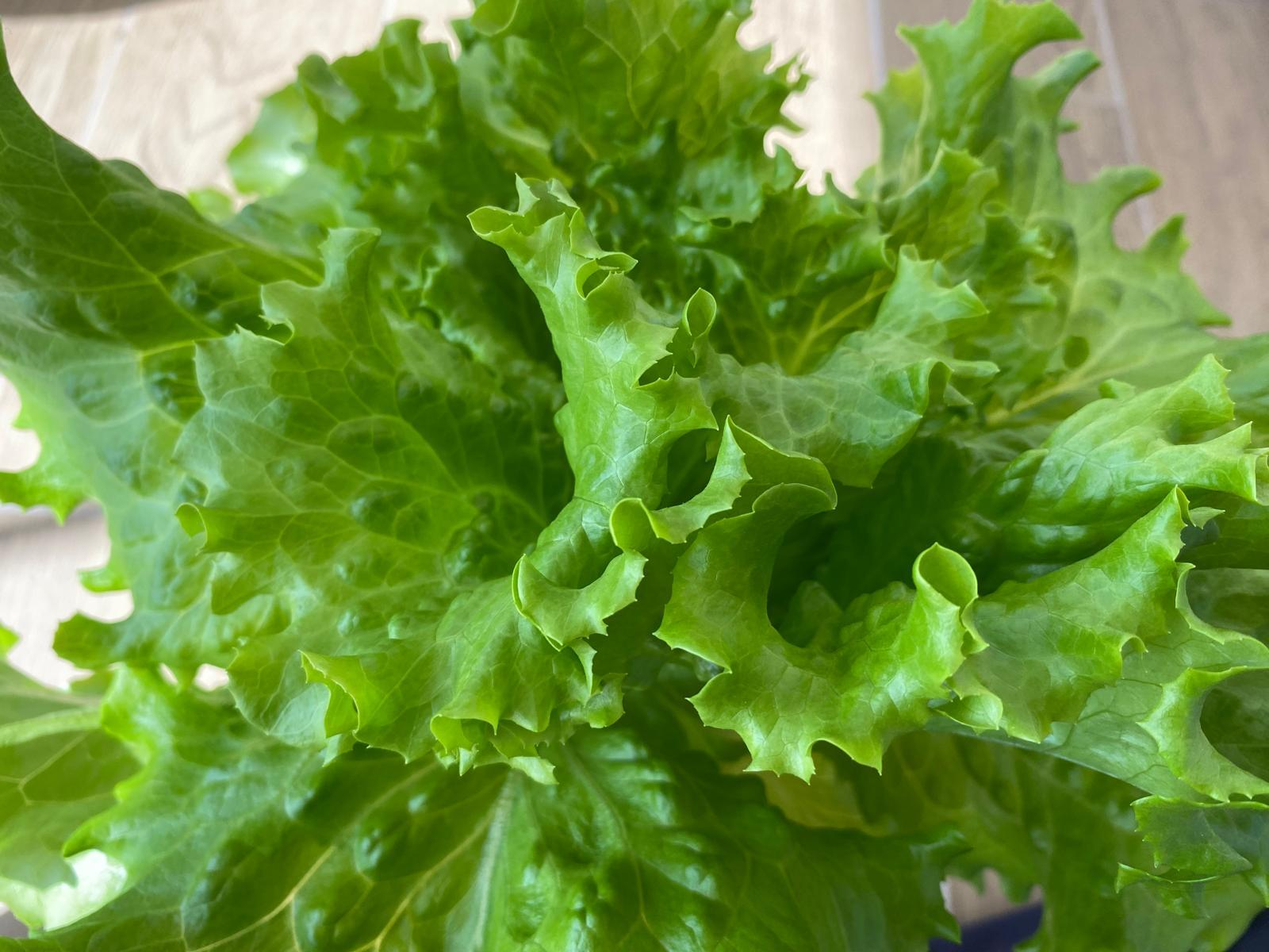Healthy Lettuce: (2, 0, 1269, 952)
